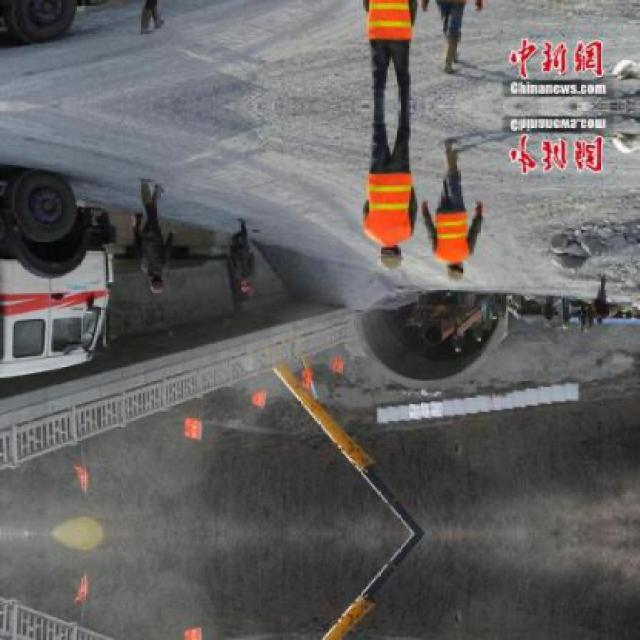con casco: (339, 231, 412, 277), (416, 250, 484, 290)
